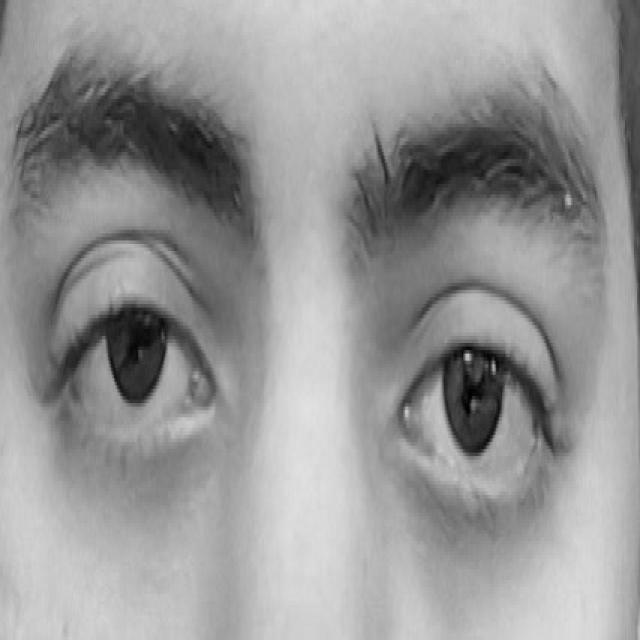real: (23, 148, 594, 564)
